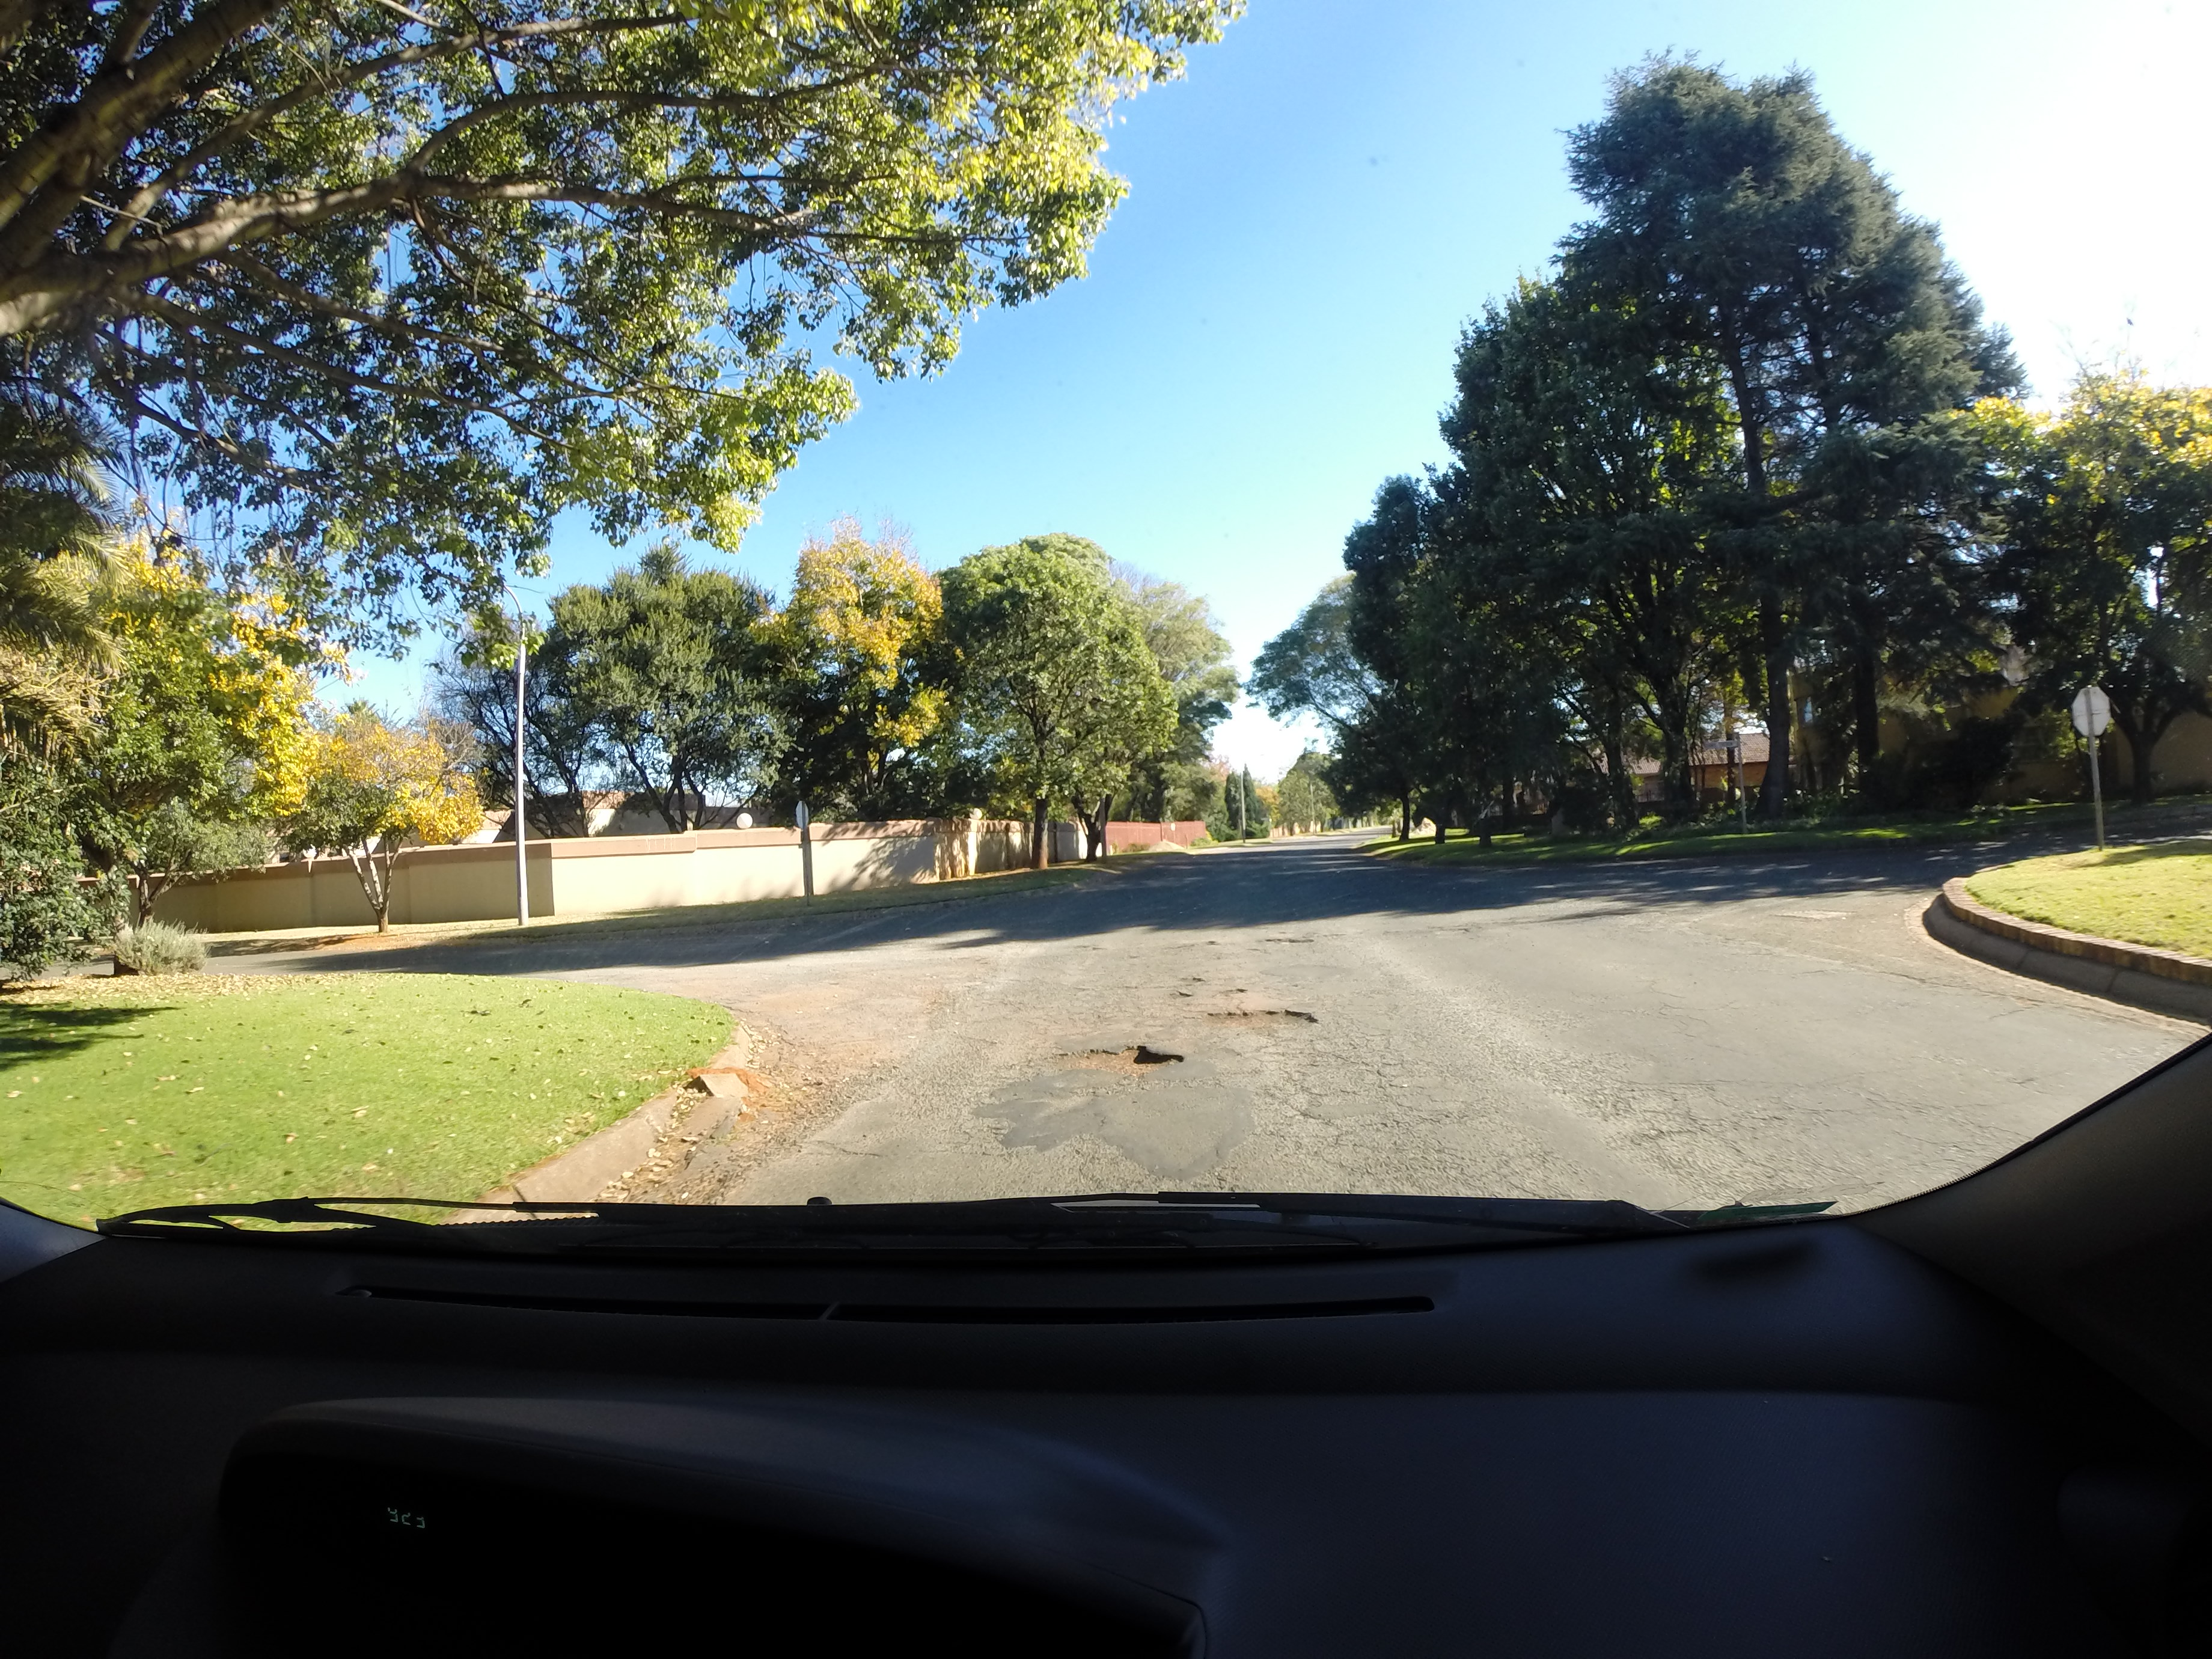pothole: (1050, 1021, 1191, 1086)
